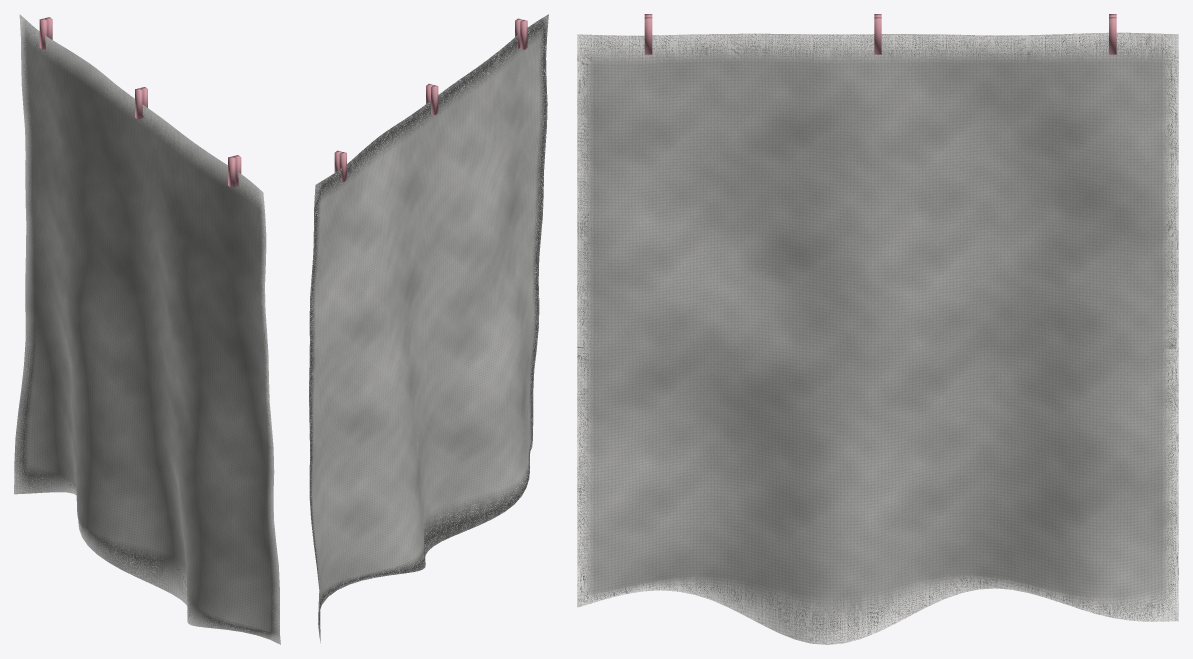
File: DrapPendu.glb
3 views of the same model, side by side, from view 1: azimuth 30°, elevation 25°; view 2: azimuth 150°, elevation 25°; view 3: azimuth 270°, elevation 25° (orthographic). The views are drawn at different scales.
Parts seen in each view (by area): view 1: Drap, Pinces; view 2: Drap, Pinces; view 3: Drap, Pinces.
Boxes of the visible parts, box(x1,y1,x2,y2) form: Drap: box(14, 14, 280, 644); Pinces: box(39, 17, 241, 187); Drap: box(309, 14, 548, 643); Pinces: box(334, 18, 527, 181); Drap: box(577, 32, 1178, 644); Pinces: box(644, 14, 1116, 54).
Bounding box in the file's own units: 0.1044 × 1.24 × 1.1.
2 materials, 2 textured.
